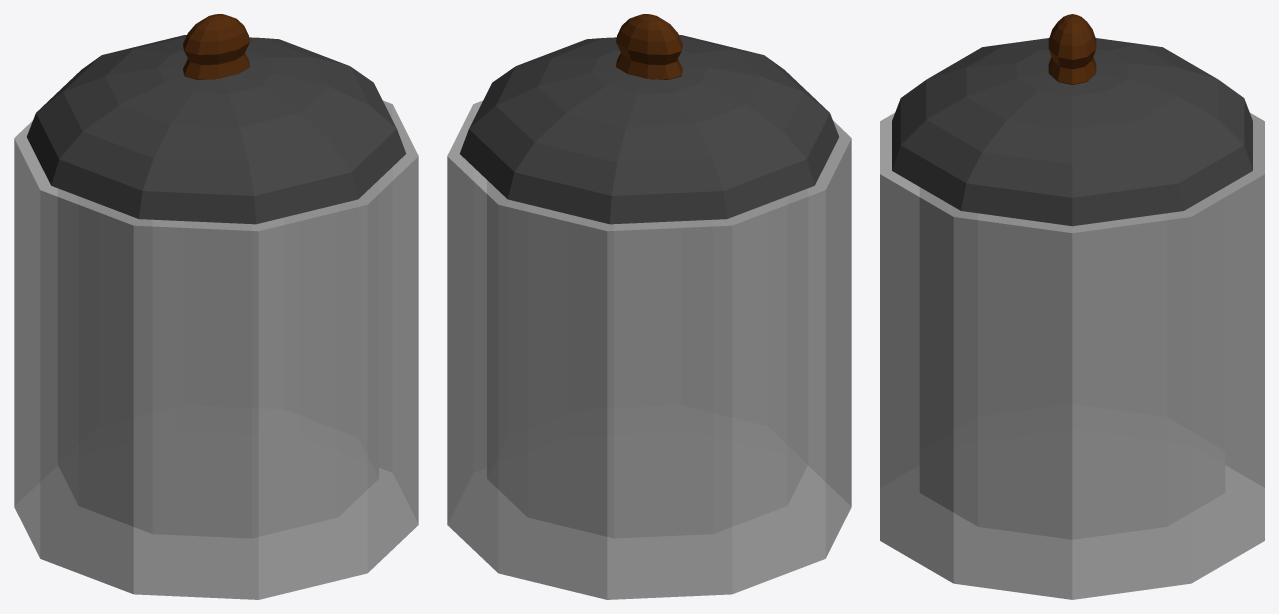
The model's file is cookiejar.fbx.
The picture shows the model from 3 angles, left to right: view 1: azimuth 30°, elevation 25°; view 2: azimuth 150°, elevation 25°; view 3: azimuth 270°, elevation 25°; orthographic projection.
Visible parts, largest first — view 1: pCylinder3, pSphere3; view 2: pCylinder3, pSphere3; view 3: pCylinder3, pSphere3.
Boxes of the visible parts, <box> form: pCylinder3: <box>14,100,418,599</box>; pSphere3: <box>27,14,406,224</box>; pCylinder3: <box>447,100,851,599</box>; pSphere3: <box>459,14,838,224</box>; pCylinder3: <box>880,113,1264,599</box>; pSphere3: <box>892,14,1252,226</box>.
Size of the model in its own units: 1.86 by 2.52 by 1.76.
